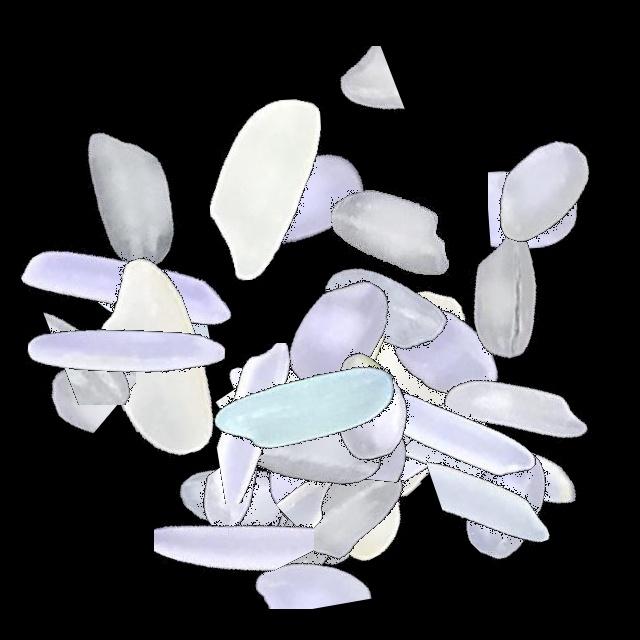Broken: (420, 56, 590, 306), (232, 257, 482, 426), (251, 310, 417, 560), (169, 343, 419, 504), (154, 375, 314, 625), (0, 242, 250, 401), (175, 486, 425, 640), (488, 80, 639, 330), (389, 415, 639, 565), (245, 370, 390, 620), (210, 336, 460, 479), (141, 449, 391, 585), (0, 231, 136, 481), (193, 387, 328, 637), (0, 271, 250, 405), (302, 287, 435, 537), (181, 478, 431, 609), (298, 287, 407, 537), (219, 46, 469, 151), (224, 417, 474, 521), (276, 362, 370, 612), (71, 223, 150, 473)
Full: (178, 76, 428, 326), (282, 292, 532, 542), (244, 310, 494, 560), (288, 266, 538, 516), (183, 317, 433, 567), (317, 226, 567, 476), (196, 320, 446, 570), (222, 343, 472, 593), (117, 367, 367, 617), (195, 390, 445, 640), (303, 318, 553, 568), (217, 390, 467, 640), (140, 63, 390, 313), (0, 72, 250, 322), (0, 167, 250, 417), (351, 337, 601, 587), (239, 293, 489, 543), (382, 380, 632, 630), (390, 285, 640, 535), (324, 302, 574, 552), (30, 235, 280, 485), (266, 106, 516, 356), (212, 209, 462, 459), (189, 327, 439, 577), (0, 224, 250, 474), (244, 284, 494, 534), (178, 283, 428, 533), (380, 170, 630, 420)
